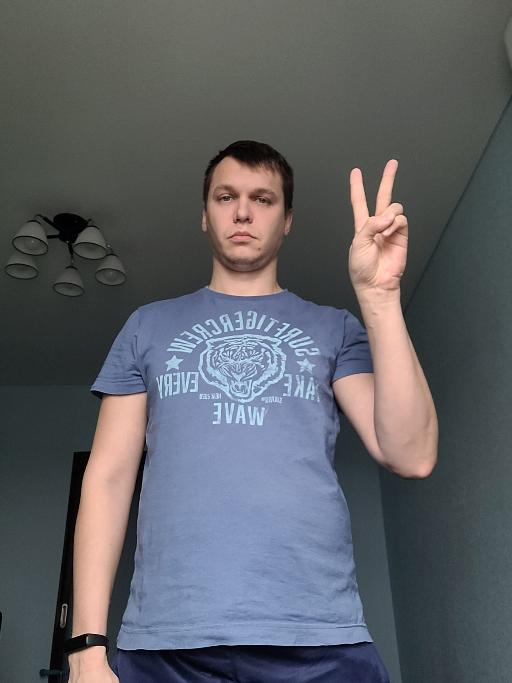peace: (344, 156, 410, 298)
